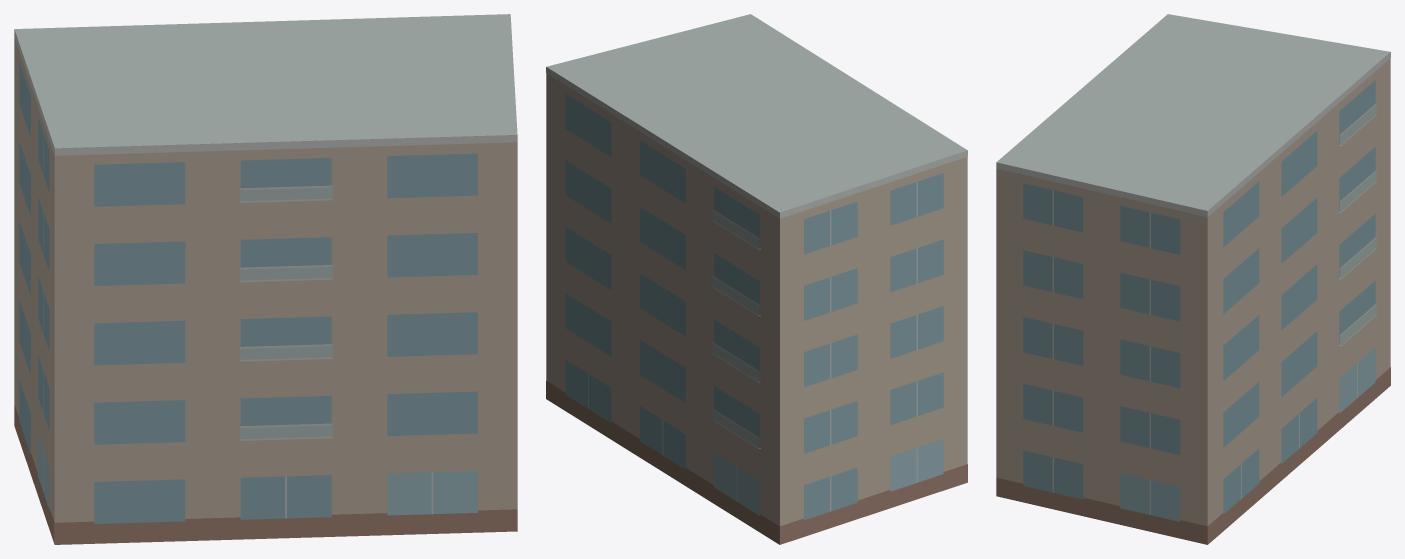
File: survey-upis-32852737.glb
3 renders of one model, left to right at view 1: azimuth 30°, elevation 25°; view 2: azimuth 150°, elevation 25°; view 3: azimuth 270°, elevation 25°, orthographic. The views are drawn at different scales.
Parts seen in each view (by area): view 1: survey-upis-32852737.tmp; view 2: survey-upis-32852737.tmp; view 3: survey-upis-32852737.tmp.
Boxes of the visible parts, left/top/right/bottom form: survey-upis-32852737.tmp: left=14, top=14, right=517, bottom=544; survey-upis-32852737.tmp: left=546, top=14, right=967, bottom=544; survey-upis-32852737.tmp: left=996, top=14, right=1390, bottom=544.
Size of the model in its own units: 16.46 by 13 by 13.93.
